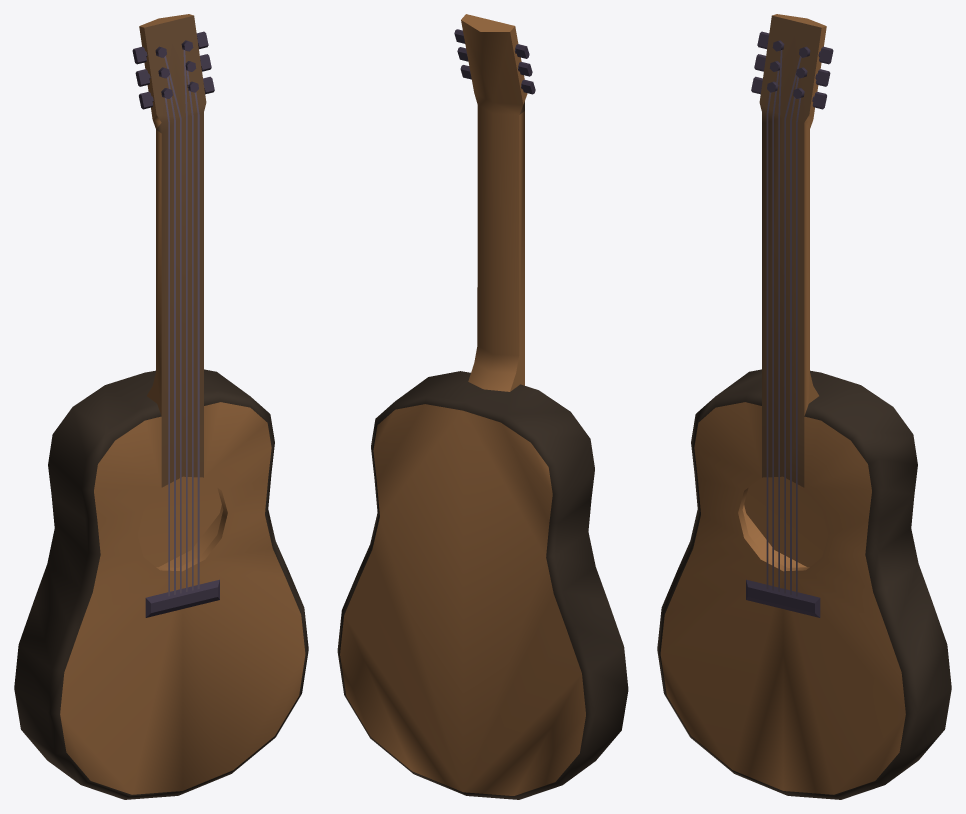
Rendered from Guitar.fbx.
3 views of the same model, side by side, from view 1: azimuth 30°, elevation 25°; view 2: azimuth 150°, elevation 25°; view 3: azimuth 330°, elevation 25° (orthographic).
Visible parts, largest first — view 1: Body, Strings, Tuners; view 2: Body, Tuners; view 3: Body, Strings, Tuners.
Boxes of the visible parts, left/top/right/bottom form: Body: left=14, top=14, right=308, bottom=799; Strings: left=164, top=50, right=199, bottom=596; Tuners: left=132, top=31, right=214, bottom=109; Body: left=337, top=14, right=628, bottom=799; Tuners: left=454, top=29, right=535, bottom=94; Body: left=657, top=14, right=951, bottom=799; Strings: left=766, top=50, right=801, bottom=596; Tuners: left=751, top=31, right=833, bottom=109.
Size of the model in its own units: 86.7 by 244 by 24.89.
